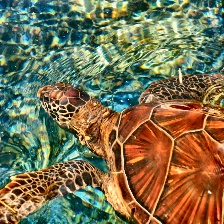seaturtle: (0, 159, 163, 224)
